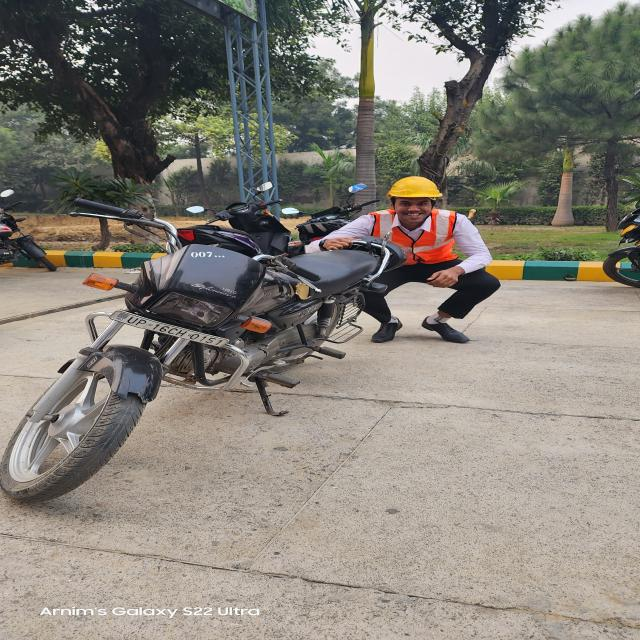safe: (305, 175, 501, 344)
